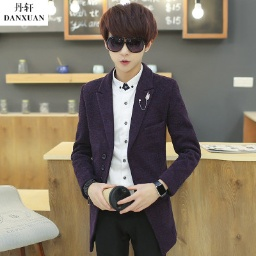face: (100, 3, 156, 73)
